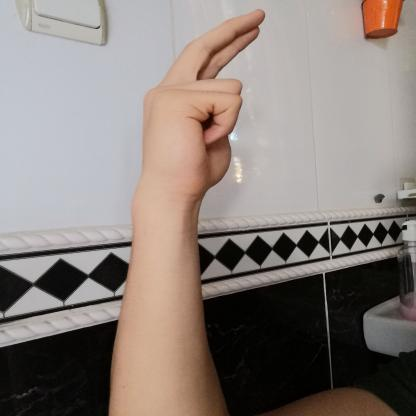ZAY: (124, 4, 281, 206)
